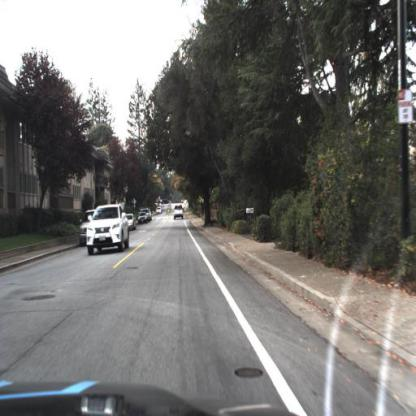car: (87, 203, 127, 257), (78, 209, 87, 247), (173, 204, 185, 221), (128, 212, 136, 228), (137, 212, 147, 223)
